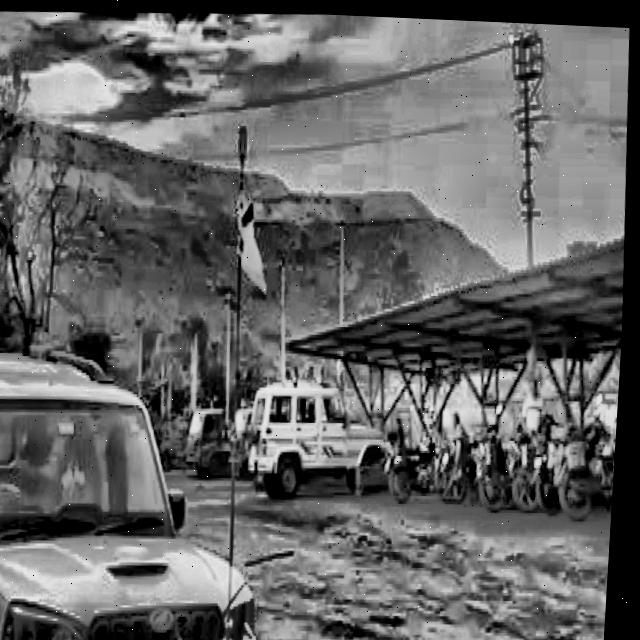light_vehicle: (0, 329, 284, 640), (250, 360, 384, 498)
